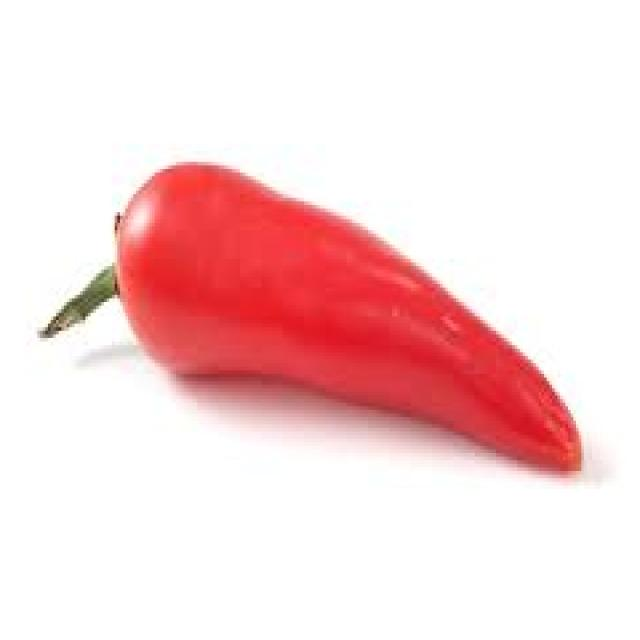chili: (16, 144, 600, 478)
